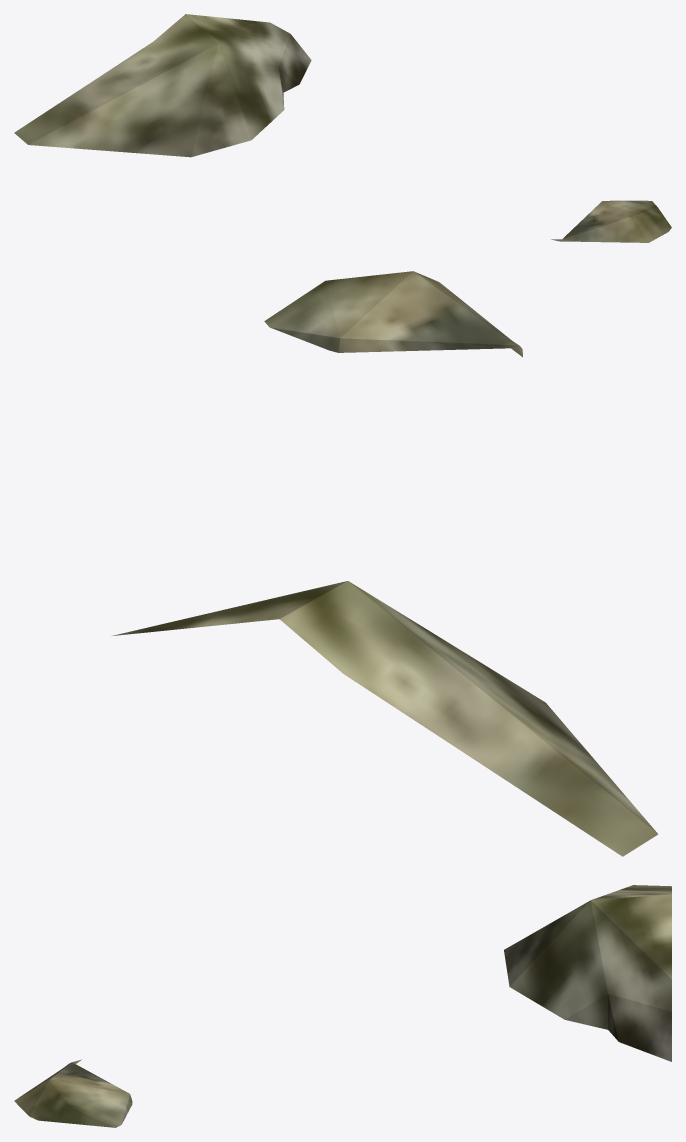
The picture shows the model from 3 angles, top to bottom: view 1: azimuth 30°, elevation 25°; view 2: azimuth 150°, elevation 25°; view 3: azimuth 270°, elevation 25°; orthographic projection. The views are drawn at different scales.
Size of the model in its own units: 0.9954 by 0.1782 by 1.14.
Materials: 1 (1 with a texture image).
